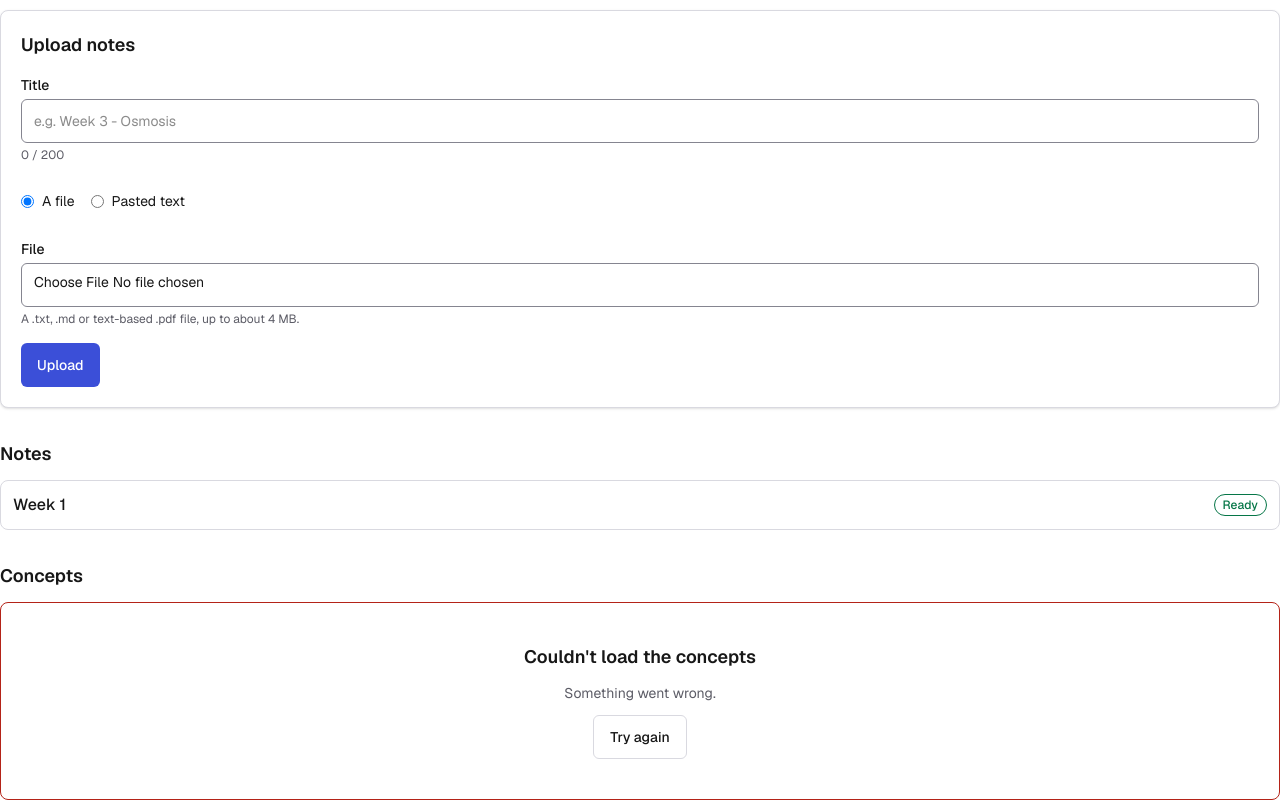
CourseNotes › shows an error for the concepts alone, and retries them
This screenshot has width=1280, height=800.
(page scrolled)
Expected: the heading "Couldn't load the concepts" is shown, [524,643,756,671]
Expected: the text "Week 1" is shown, [13,493,66,517]
Step 1. Click the button "Try again" → (640, 737), box [593,715,687,759]
(page scrolled)
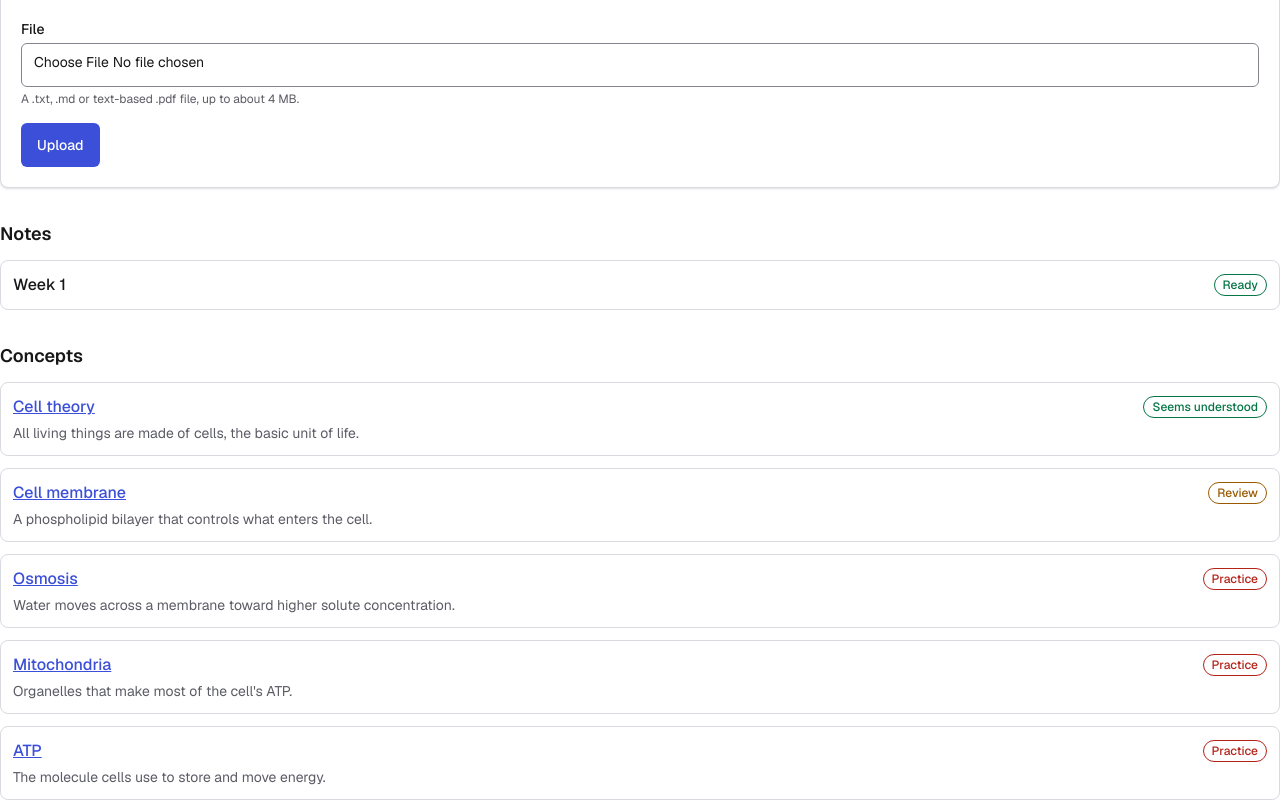
Now the list named "Concepts" is shown, box [0,382,1279,799]
